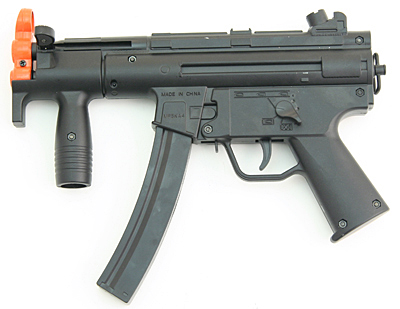rifle: (12, 7, 393, 296)
